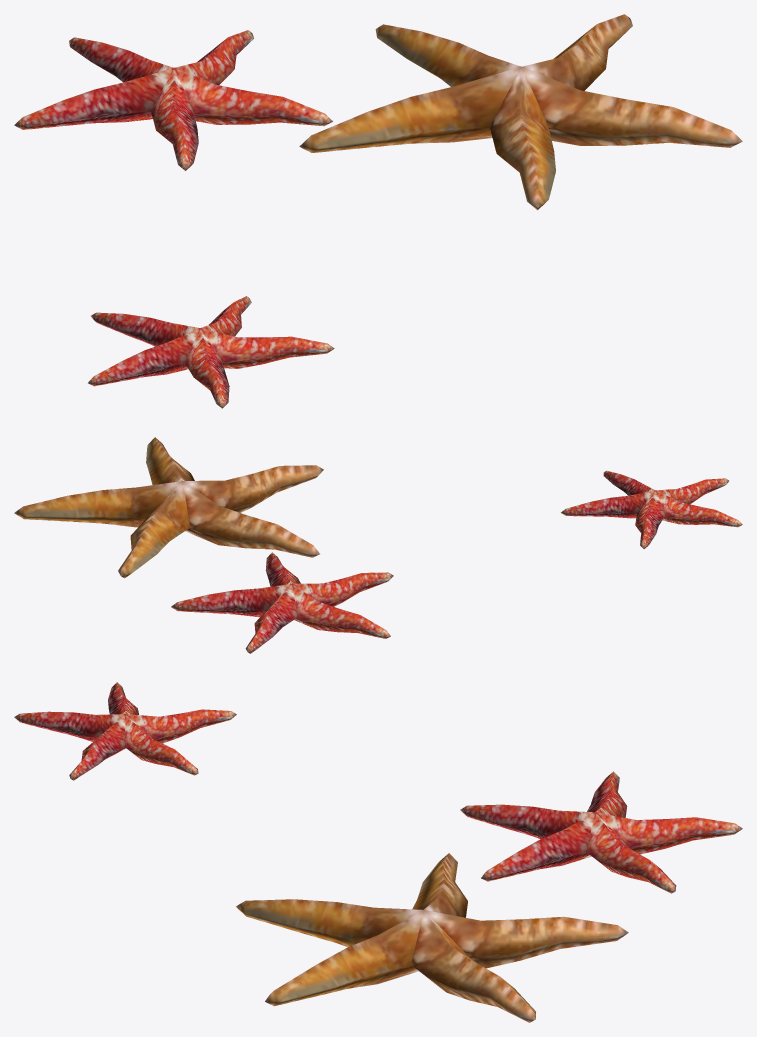
The model's file is S_Build_Sea029.FBX.
The picture shows the model from 3 angles, top to bottom: view 1: azimuth 30°, elevation 25°; view 2: azimuth 150°, elevation 25°; view 3: azimuth 270°, elevation 25°; orthographic projection. The views are drawn at different scales.
Visible parts, largest first — view 1: S_Build_Sea029; view 2: S_Build_Sea029; view 3: S_Build_Sea029.
Boxes of the visible parts, x1,y1,x2,y2 form: S_Build_Sea029: [14, 14, 742, 408]; S_Build_Sea029: [14, 437, 742, 653]; S_Build_Sea029: [14, 682, 742, 1022].
Bounding box in the file's own units: 210 × 193 × 17.61.
Materials: 1 (1 with a texture image).
